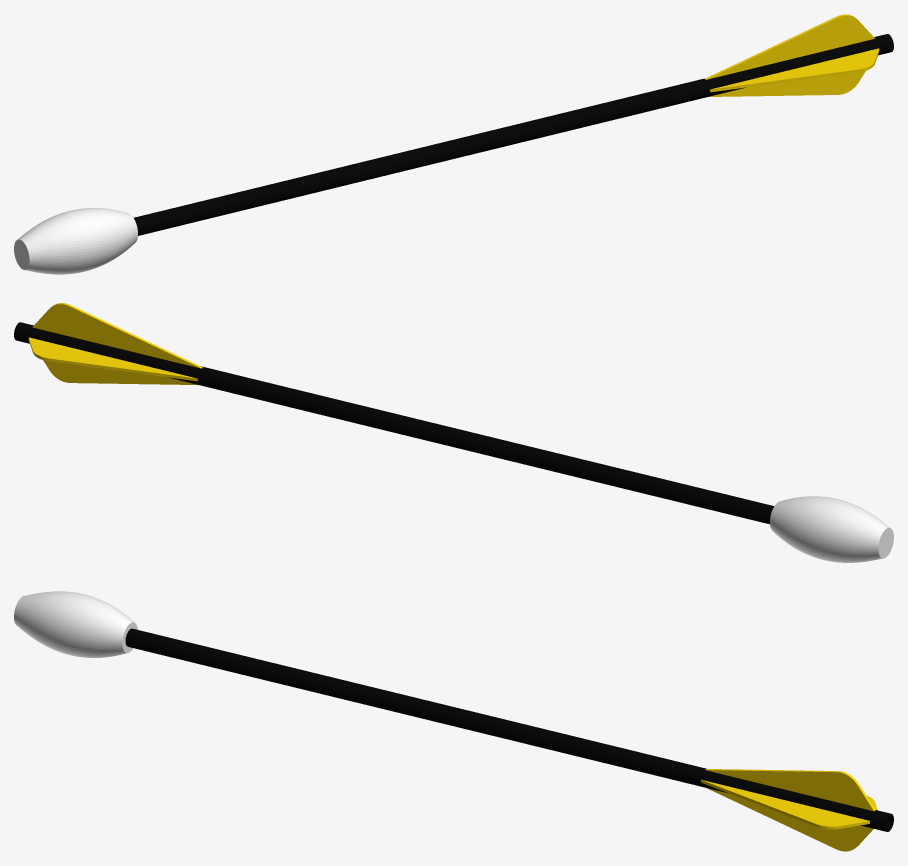
Rendered from arrow.dae.
The picture shows the model from 3 angles, top to bottom: view 1: azimuth 30°, elevation 25°; view 2: azimuth 150°, elevation 25°; view 3: azimuth 330°, elevation 25°; orthographic projection.
Visible parts, largest first — view 1: body332522, body332438, body332313, body332188, body332063; view 2: body332522, body332438, body332313, body331938, body332063; view 3: body332522, body332438, body332313, body332188, body332063.
Part boxes in pixels (box(x1,y1,x2,y2)): body332522: box(134, 34, 893, 235); body332438: box(14, 208, 137, 274); body332313: box(704, 14, 874, 79); body332188: box(710, 48, 879, 92); body332063: box(709, 71, 865, 96); body332522: box(14, 322, 774, 524); body332438: box(770, 496, 893, 562); body332313: box(32, 303, 202, 368); body331938: box(28, 337, 197, 381); body332063: box(43, 360, 197, 384); body332522: box(125, 628, 893, 831); body332438: box(14, 591, 137, 657); body332313: box(705, 769, 875, 811); body332188: box(700, 779, 869, 829); body332063: box(707, 788, 873, 851).
Size of the model in its own units: 0.64 by 0.055 by 0.055.
